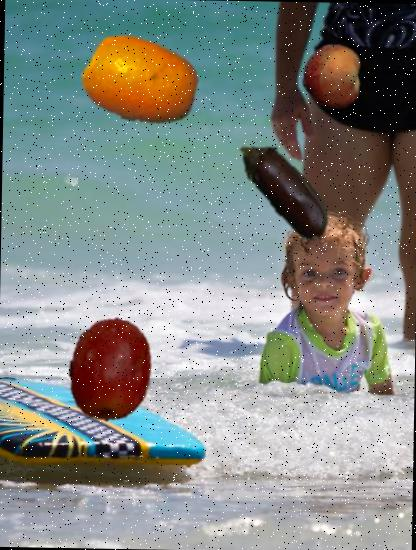Eggplant: (221, 126, 348, 252)
Grape: (57, 316, 164, 422)
Kumquats: (80, 21, 199, 141)
Nectarine: (299, 44, 366, 111)
